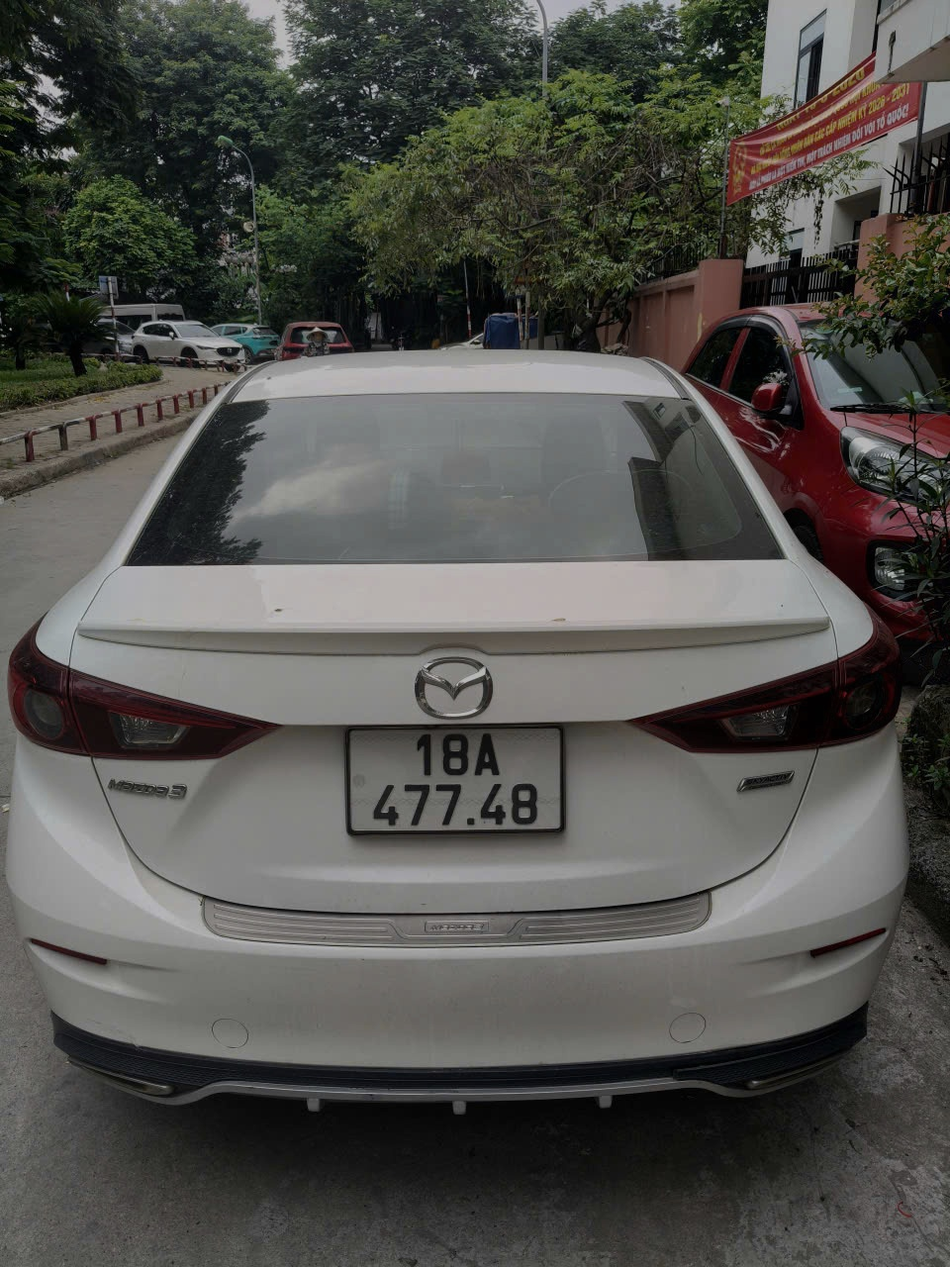plate: (202, 899, 316, 941)
